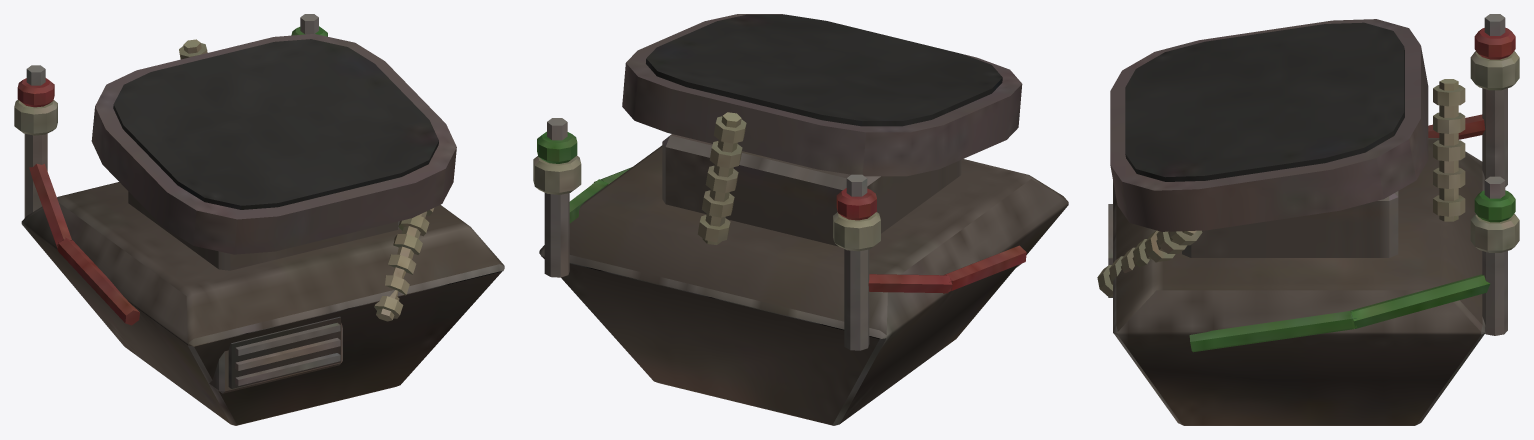
File: display-panel.glb
The picture shows the model from 3 angles, left to right: view 1: azimuth 30°, elevation 25°; view 2: azimuth 150°, elevation 25°; view 3: azimuth 270°, elevation 25°; orthographic projection. The views are drawn at different scales.
Visible parts, largest first — view 1: body; view 2: body; view 3: body.
Part boxes in pixels (x1=…): body: x1=14, y1=14, x2=504, y2=425; body: x1=533, y1=14, x2=1068, y2=425; body: x1=1097, y1=14, x2=1519, y2=425.
Bounding box in the file's own units: 0.9318 × 0.7249 × 0.9172.
Materials: 1 (1 with a texture image).
